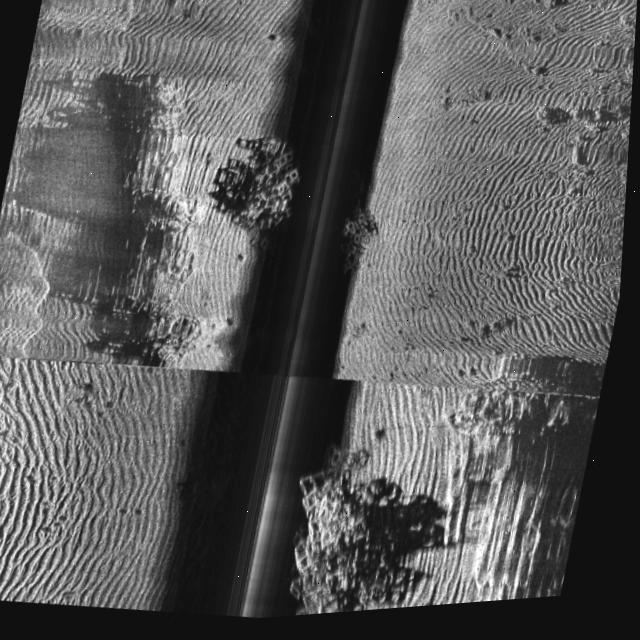artificial reef: (285, 463, 422, 622), (226, 129, 311, 263), (334, 194, 394, 289)
